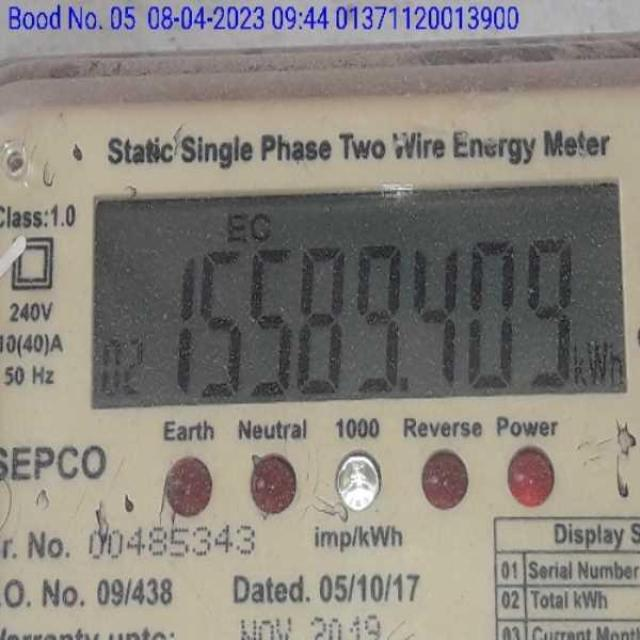0: (466, 242, 522, 392)
1: (173, 251, 200, 395)
4: (406, 244, 461, 391)
5: (246, 249, 296, 395), (206, 250, 244, 400)
8: (295, 248, 347, 398)
9: (353, 245, 403, 395), (526, 243, 576, 388)
Digital meter: (89, 186, 623, 404)
point: (398, 374, 414, 394)
